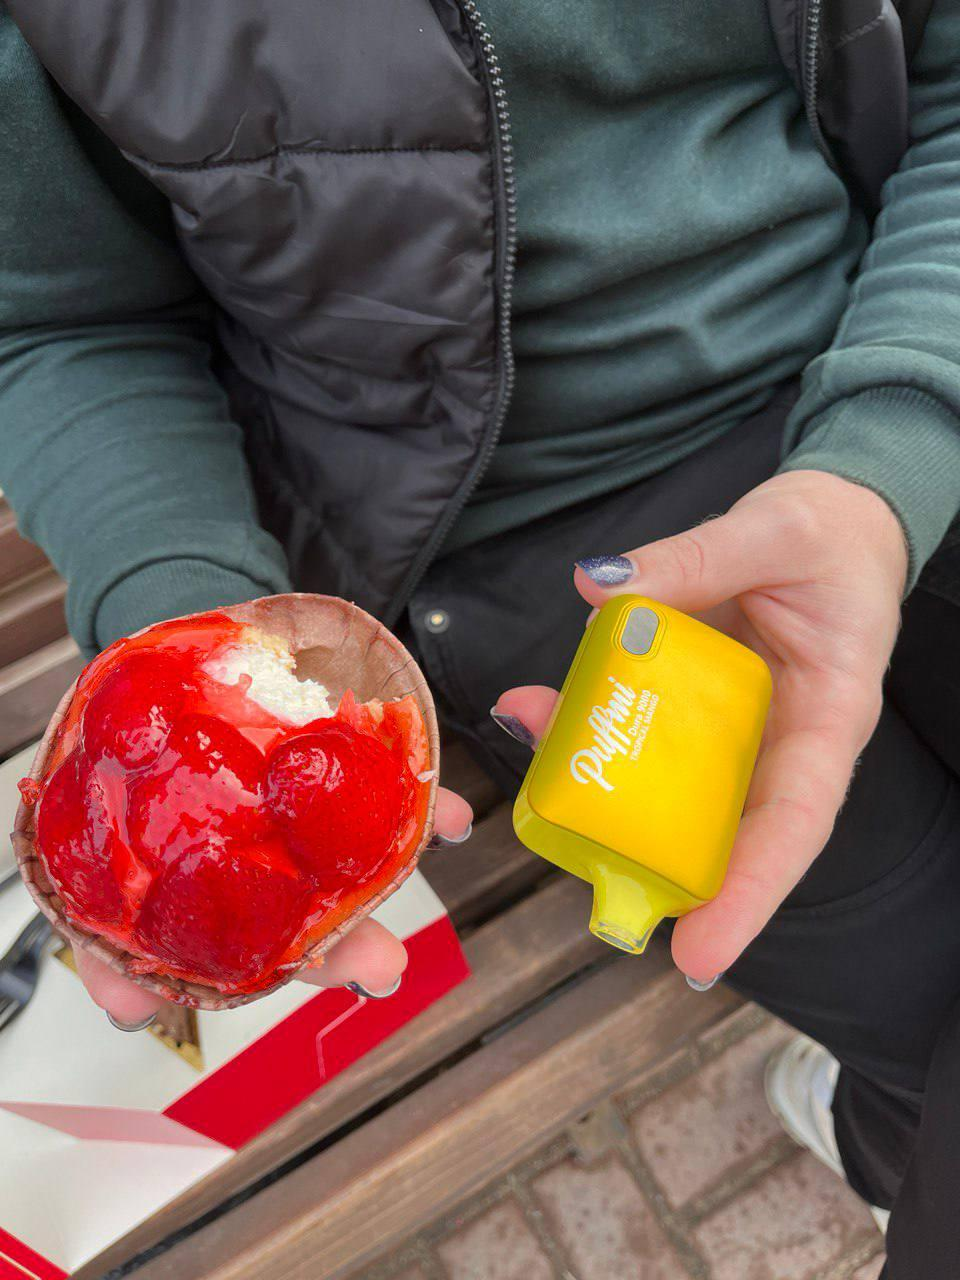Vape: (514, 596, 771, 952)
